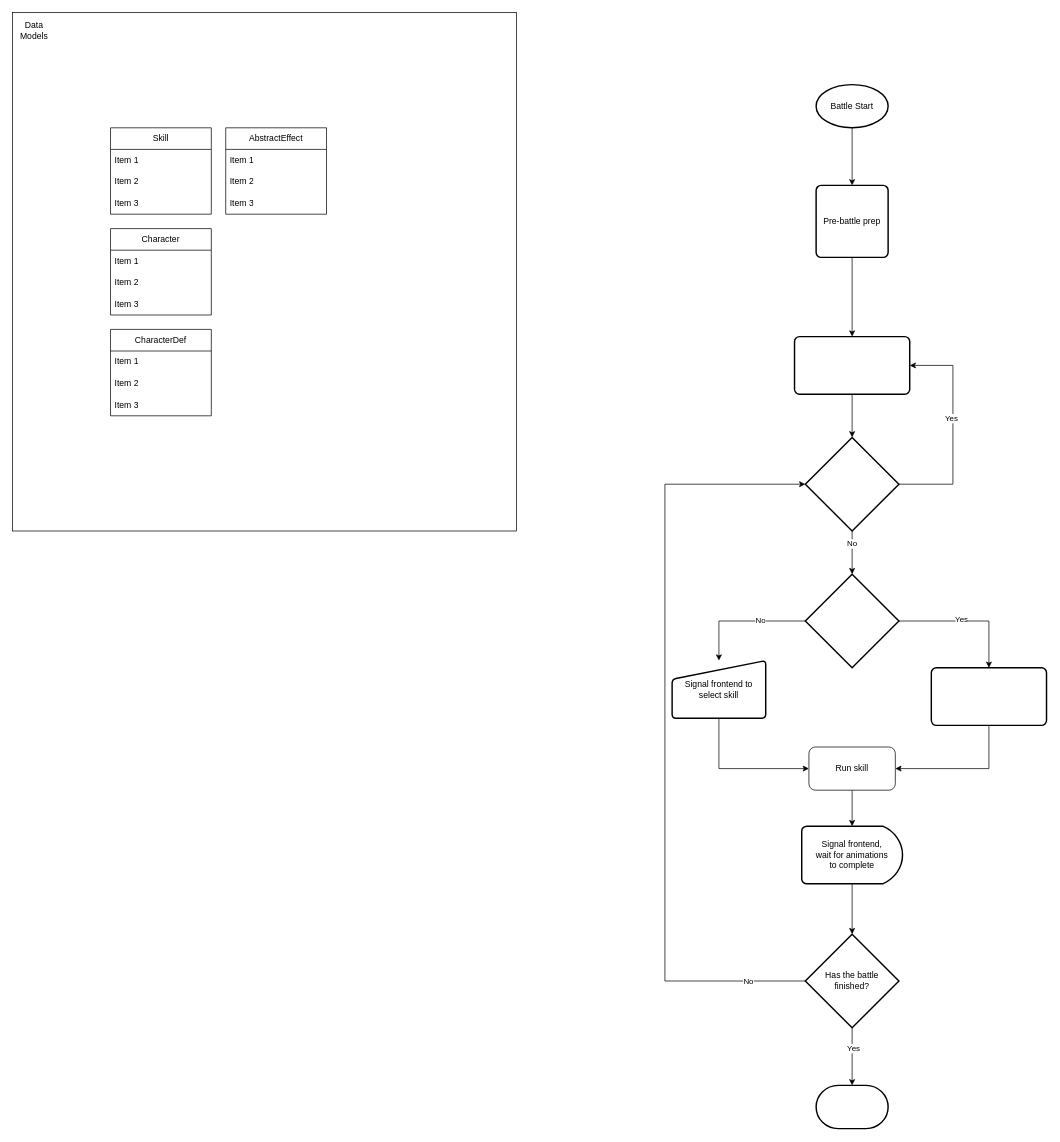
Image size: 1060x1142. Some labels were removed from this diagram. The centre of each missing label's shape, as x and y in pixels:
"End" belongs at pixel 851 1106.
"Have all Characters had a turn?" belongs at pixel 851 483.
"Is the current character AI controlled?" belongs at pixel 851 620.
"Run Enemy AI to pick Skill" belongs at pixel 988 696.
"Start a new round" belongs at pixel 851 365.
